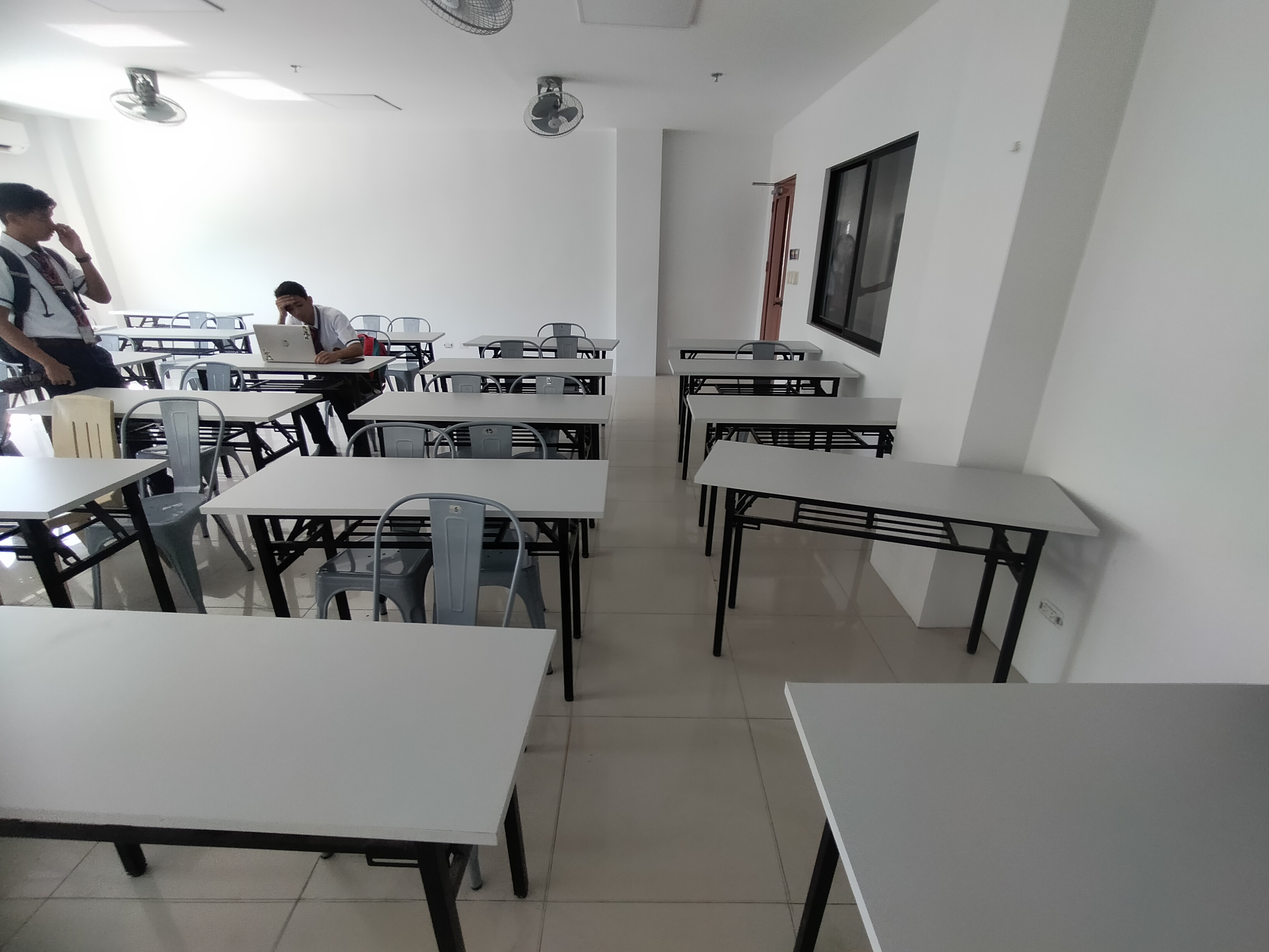with-student: (166, 277, 399, 394)
